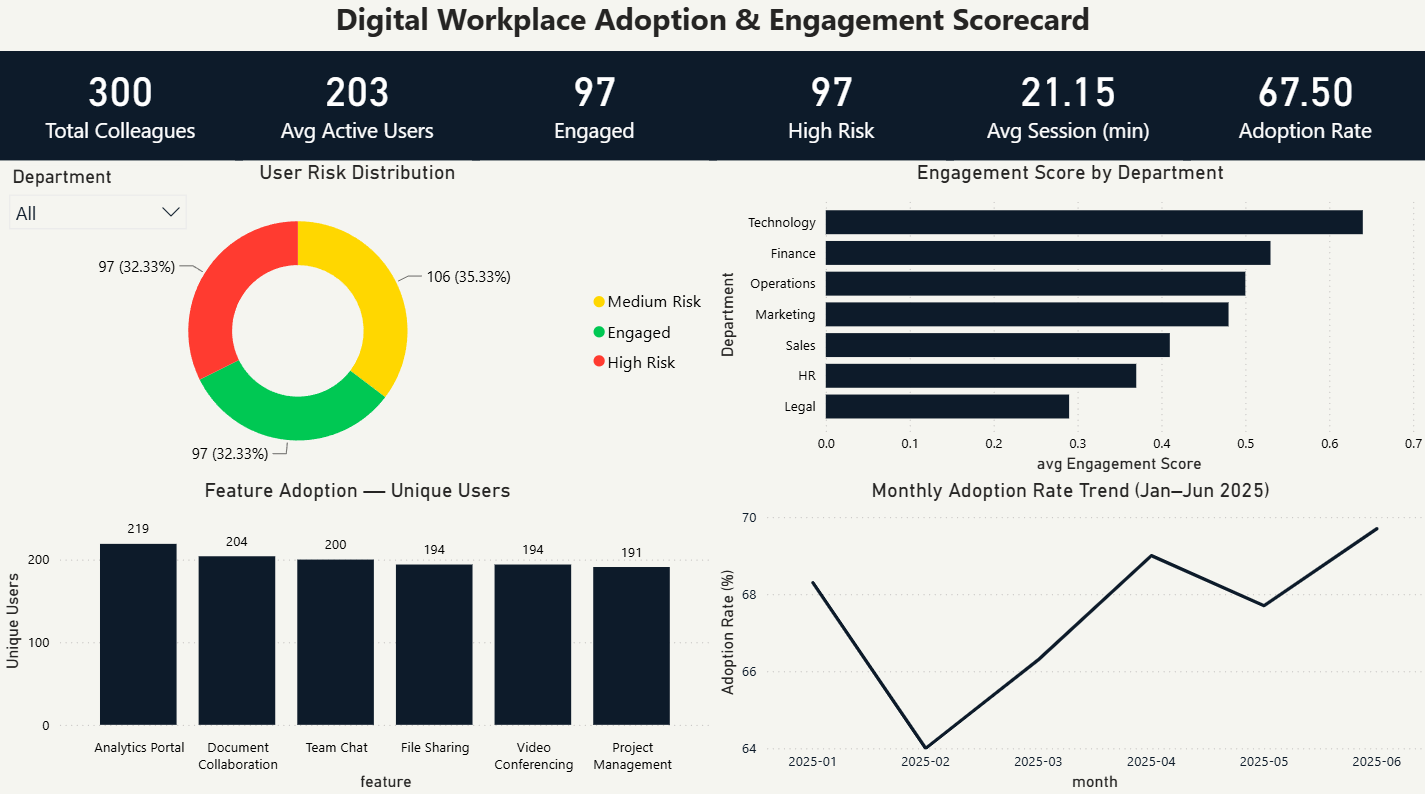

What the dashboard file says about the page in this screenshot:
{"tool":"powerbi","page":{"name":"Digital Workplace Adoption & Engagement Scorecard","canvas":[1280,720],"ordinal":0},"visuals":[{"type":"PBI_CV_7B952816_A48F_49B4_9E13_15E3BB2C0337","fields":{"Values":["adoption_dept_scorecard.Total Colleagues"]},"box":[0,52.4,219.2,98.2],"z":0,"group":"g1"},{"type":"PBI_CV_7B952816_A48F_49B4_9E13_15E3BB2C0337","fields":{"Values":["adoption_dept_scorecard.Avg Monthly Active Users"]},"box":[212.2,52.4,219.2,98.2],"z":1000,"group":"g1"},{"type":"lineChart","title":"Monthly Adoption Rate Trend (Jan–Jun 2025)","fields":{"Category":["adoption_monthly_trend.month.Variation.Date Hierarchy.Year"],"Y":["adoption_dept_scorecard.Monthly Adoption Rate"]},"box":[640,435.6,640,285],"z":1000},{"type":"PBI_CV_7B952816_A48F_49B4_9E13_15E3BB2C0337","fields":{"Values":["adoption_dept_scorecard.Engaged Users"]},"box":[424.3,52.4,219.2,98.2],"z":2000,"group":"g1"},{"type":"clusteredBarChart","title":"Engagement Score by Department","fields":{"Category":["adoption_dept_scorecard.department"],"Y":["Sum(adoption_dept_scorecard.avg_engagement_score)"]},"box":[640,150.6,640,285],"z":2000},{"type":"PBI_CV_7B952816_A48F_49B4_9E13_15E3BB2C0337","fields":{"Values":["adoption_dept_scorecard.High Risk Users"]},"box":[636.5,52.4,219.2,98.2],"z":3000,"group":"g1"},{"type":"clusteredColumnChart","title":"Feature Adoption — Unique Users","fields":{"Category":["adoption_features.feature"],"Y":["Sum(adoption_features.unique_users)"]},"box":[0,435.6,644,285],"z":3000},{"type":"PBI_CV_7B952816_A48F_49B4_9E13_15E3BB2C0337","fields":{"Values":["adoption_dept_scorecard.Avg Session Duration"]},"box":[848.7,52.4,219.2,98.2],"z":4000,"group":"g1"},{"type":"donutChart","title":"User Risk Distribution","fields":{"Category":["adoption_user_summary.risk_flag"],"Y":["CountNonNull(adoption_user_summary.user_id)"]},"box":[0,150.2,644.1,285],"z":4000},{"type":"PBI_CV_7B952816_A48F_49B4_9E13_15E3BB2C0337","fields":{"Values":["adoption_dept_scorecard.Overall Adoption Rate"]},"box":[1060.8,52.4,219.2,98.2],"z":5000,"group":"g1"},{"type":"slicer","fields":{"Values":["adoption_dept_scorecard.department"]},"box":[0,150.6,178.8,72.6],"z":5000},{"type":"textbox","box":[0,0,1280,52.4],"z":6000},{"type":"group","id":"g1","title":"Group 1","box":[0,52.4,1280,98.2],"z":6001}]}

Visuals, with their boxes in screenshot pixels (x1, y1, x2, y2), scaled from the page's 1280x720 canvas onto the 1425x794 screenshot:
PBI_CV_7B952816_A48F_49B4_9E13_15E3BB2C0337 - adoption_dept_scorecard.Total Colleagues: (x1=0, y1=58, x2=244, y2=166)
PBI_CV_7B952816_A48F_49B4_9E13_15E3BB2C0337 - adoption_dept_scorecard.Avg Monthly Active Users: (x1=236, y1=58, x2=480, y2=166)
"Monthly Adoption Rate Trend (Jan–Jun 2025)" lineChart: (x1=712, y1=480, x2=1424, y2=793)
PBI_CV_7B952816_A48F_49B4_9E13_15E3BB2C0337 - adoption_dept_scorecard.Engaged Users: (x1=472, y1=58, x2=716, y2=166)
"Engagement Score by Department" clusteredBarChart: (x1=712, y1=166, x2=1424, y2=480)
PBI_CV_7B952816_A48F_49B4_9E13_15E3BB2C0337 - adoption_dept_scorecard.High Risk Users: (x1=709, y1=58, x2=953, y2=166)
"Feature Adoption — Unique Users" clusteredColumnChart: (x1=0, y1=480, x2=717, y2=793)
PBI_CV_7B952816_A48F_49B4_9E13_15E3BB2C0337 - adoption_dept_scorecard.Avg Session Duration: (x1=945, y1=58, x2=1189, y2=166)
"User Risk Distribution" donutChart: (x1=0, y1=166, x2=717, y2=480)
PBI_CV_7B952816_A48F_49B4_9E13_15E3BB2C0337 - adoption_dept_scorecard.Overall Adoption Rate: (x1=1181, y1=58, x2=1424, y2=166)
slicer - adoption_dept_scorecard.department: (x1=0, y1=166, x2=199, y2=246)
textbox: (x1=0, y1=0, x2=1424, y2=58)
"Group 1" group: (x1=0, y1=58, x2=1424, y2=166)
